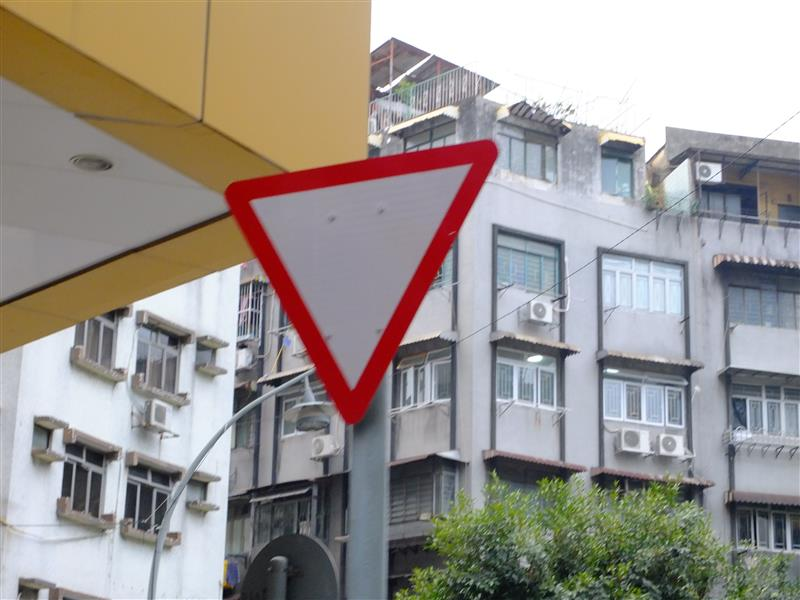yield: (198, 125, 506, 466)
